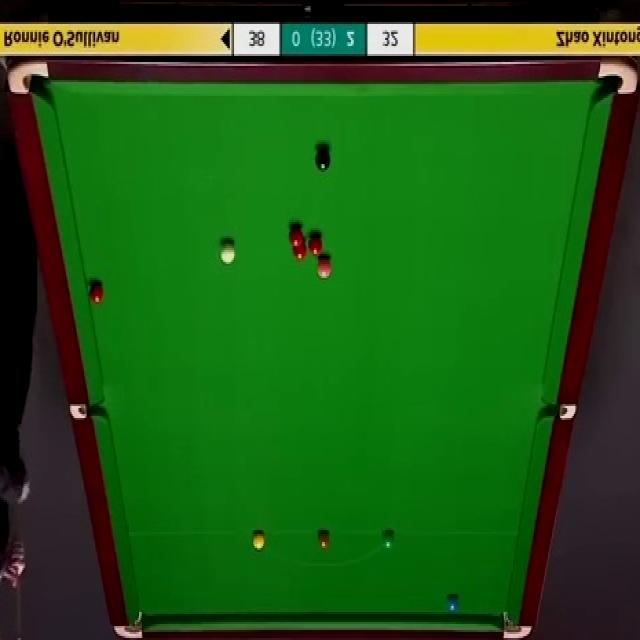pocket: (595, 56, 640, 98), (5, 63, 50, 97), (499, 609, 532, 640), (113, 609, 144, 640), (538, 404, 577, 422), (71, 404, 103, 418)
